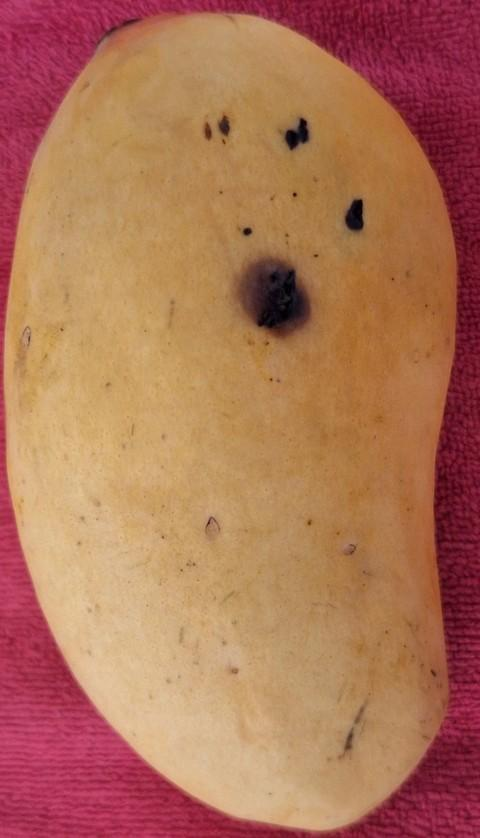mango: (3, 10, 458, 831)
